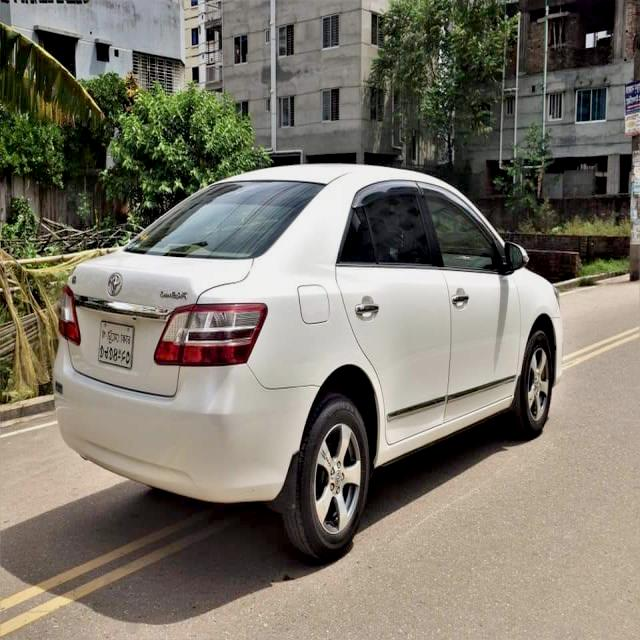white: (48, 167, 563, 506)
